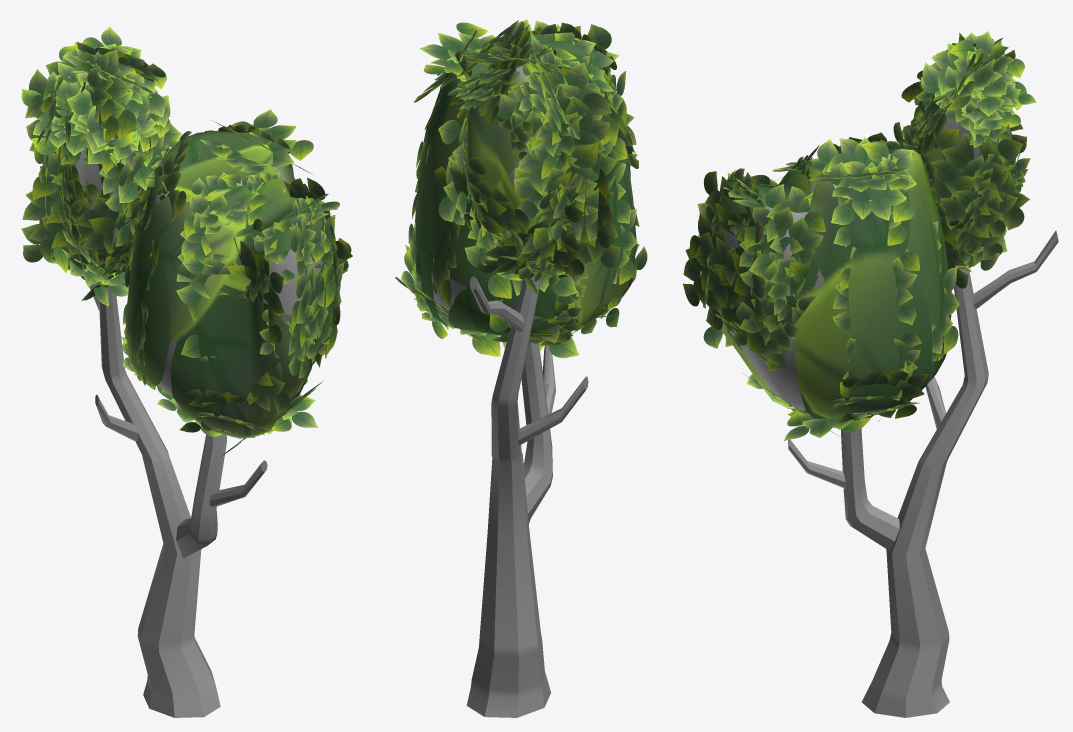
File: Mesh_Miranda_Tree2.FBX
The picture shows the model from 3 angles, left to right: view 1: azimuth 30°, elevation 25°; view 2: azimuth 150°, elevation 25°; view 3: azimuth 270°, elevation 25°; orthographic projection. The views are drawn at different scales.
Parts seen in each view (by area): view 1: Object028; view 2: Object028; view 3: Object028.
Part boxes in pixels (x1,y1,x2,y2): Object028: [21, 27, 352, 717]; Object028: [395, 19, 647, 717]; Object028: [683, 31, 1058, 717].
Size of the model in its own units: 470 by 1175 by 614.
